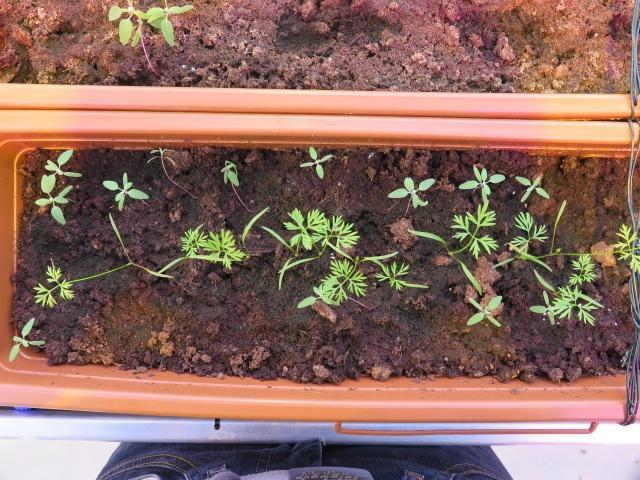weed: (4, 310, 49, 363), (99, 165, 150, 210), (383, 172, 436, 210), (294, 140, 335, 180), (511, 169, 549, 206)
